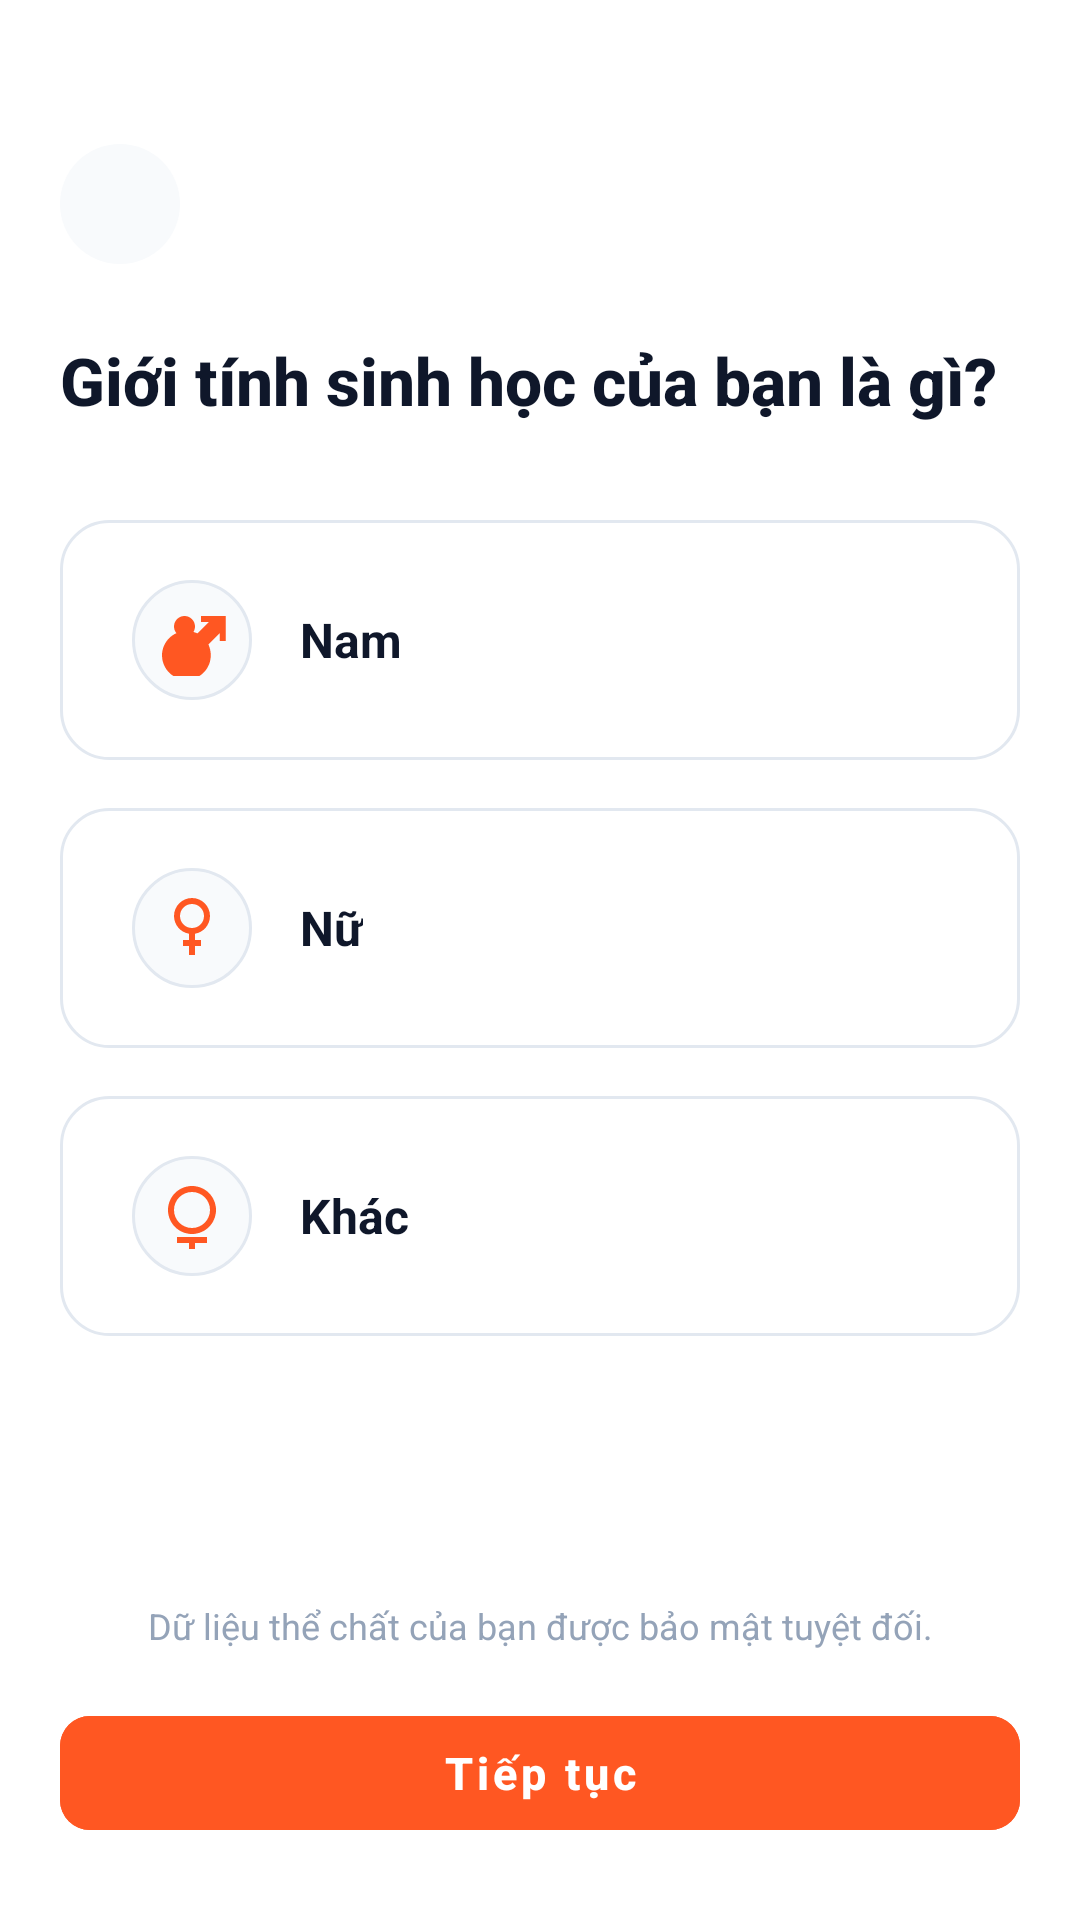

Icons on this 1080 × 1920 Android screen, each with its box as [x1, y1, x2, y2]:
Female: [132, 868, 252, 988]
Male: [132, 580, 252, 700]
Other: [132, 1156, 252, 1276]
